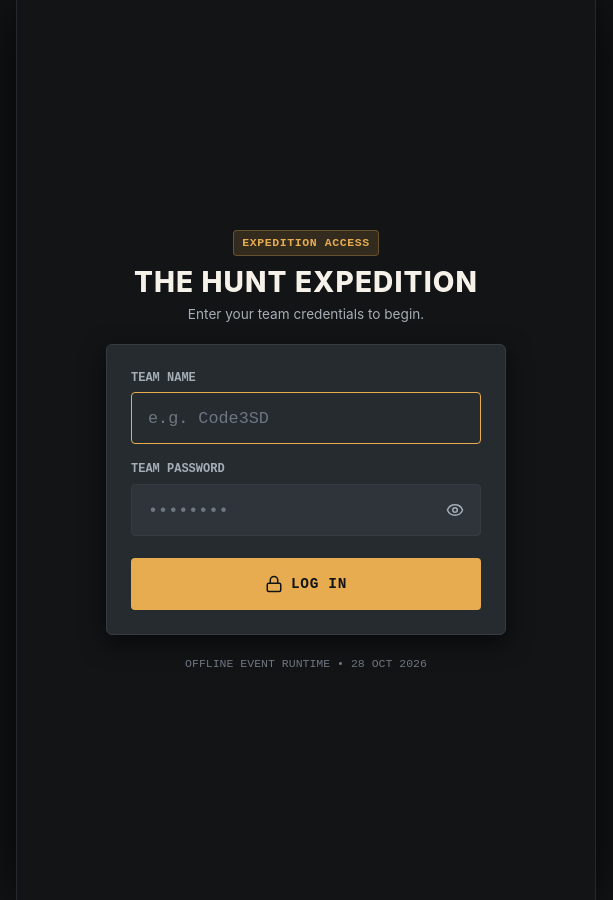
Test: Team Welcome Screen — Flow, Timer & Mode Integration › 7. After successful login, App shows Welcome Screen rather than going directly to questions
// Enter team credentials on LoginScreen
Type "MindX" into the field labelled "TEAM NAME" at (306, 418), box [131,392,481,444]
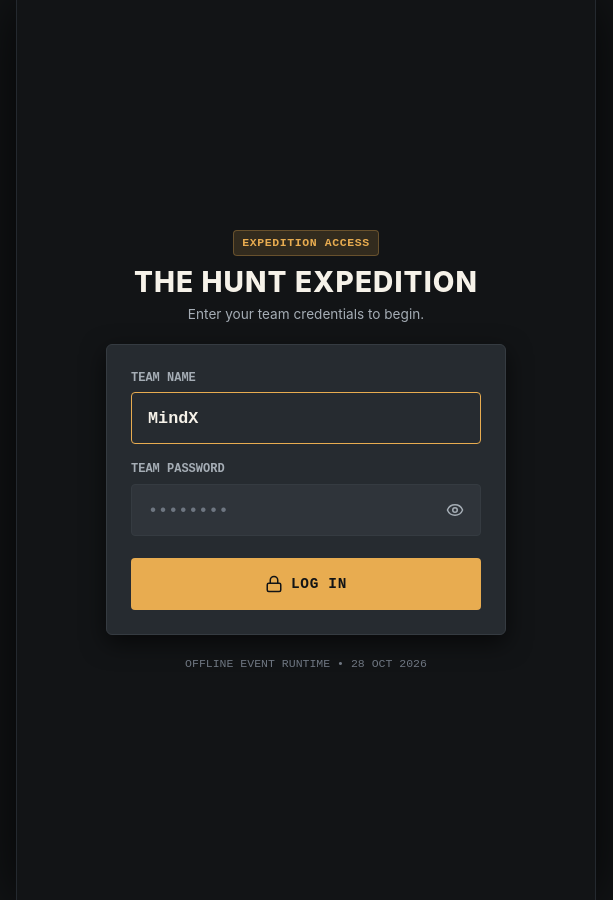
Type "MindX@yit" into the password field labelled "TEAM PASSWORD" at (306, 510), box [131,484,481,536]
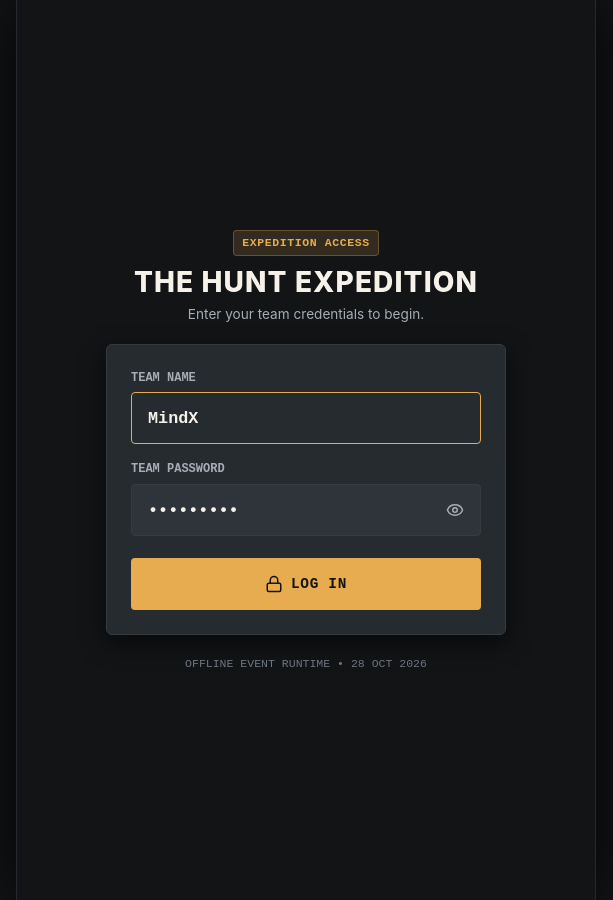
// Submit login
Click the button "LOG IN" at (306, 584), box [131,558,481,610]
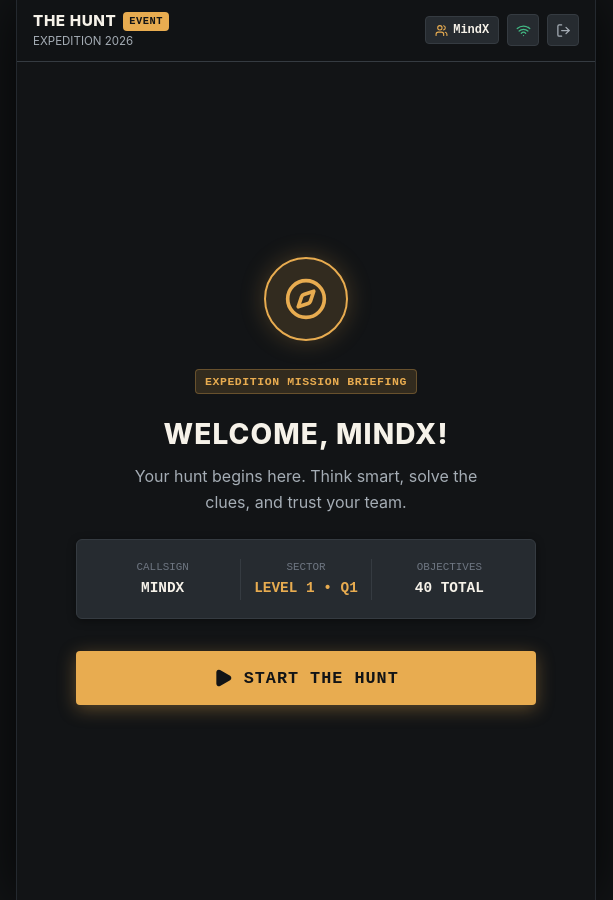
Expected: the heading reads "WELCOME, MindX!", [164,417,449,451]
Expected: the text "Your hunt begins here. Think smart, solve the clues, and trust your team." is shown, [116,464,496,515]
Expected: the button "START THE HUNT" is shown, [76,651,536,705]
